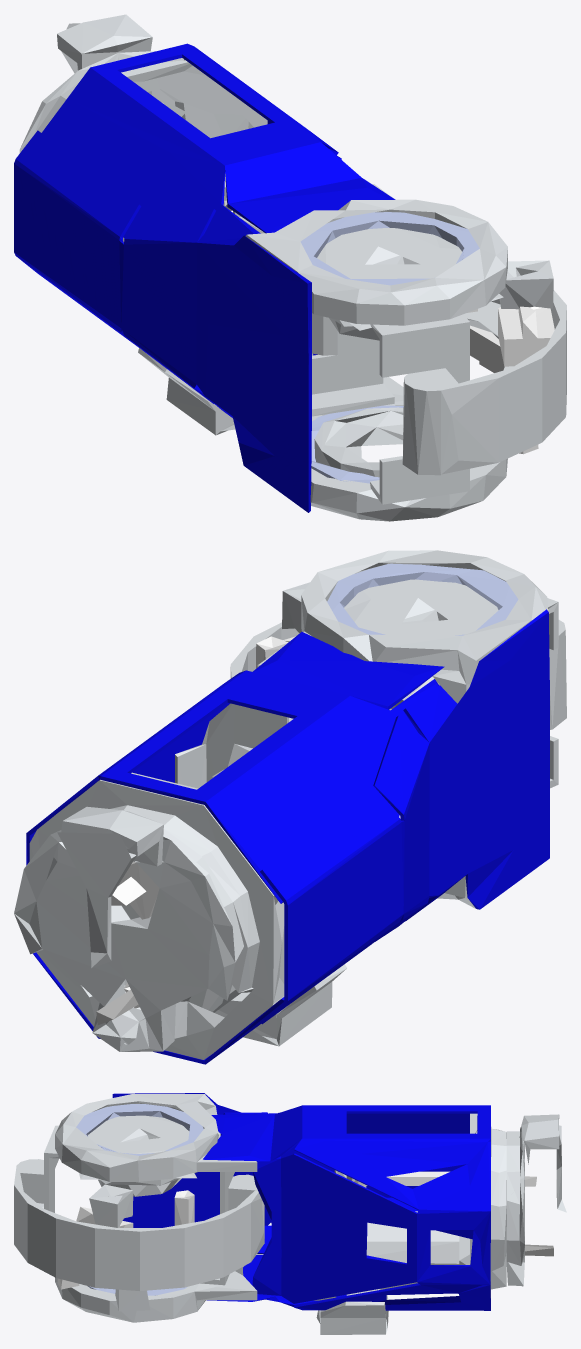
File: RARM_LINK3_mesh.dae
3 views of the same model, one above another, from view 1: azimuth 30°, elevation 25°; view 2: azimuth 150°, elevation 25°; view 3: azimuth 270°, elevation 25° (orthographic). The views are drawn at different scales.
Parts seen in each view (by area): view 1: RARM_LINK3 (×14); view 2: RARM_LINK3 (×14); view 3: RARM_LINK3 (×16).
Boxes of the visible parts, box(x1,y1,x2,y2) form: RARM_LINK3 (×14): box(14, 14, 566, 521); RARM_LINK3 (×14): box(14, 550, 566, 1064); RARM_LINK3 (×16): box(14, 1093, 566, 1334).
Size of the model in its own units: 0.087 by 0.0834 by 0.2106.
